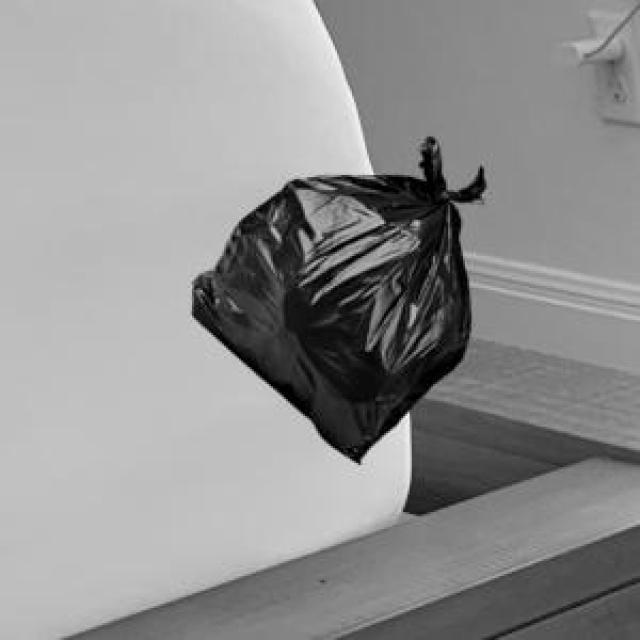miscellaneous trash: (188, 132, 482, 459)
